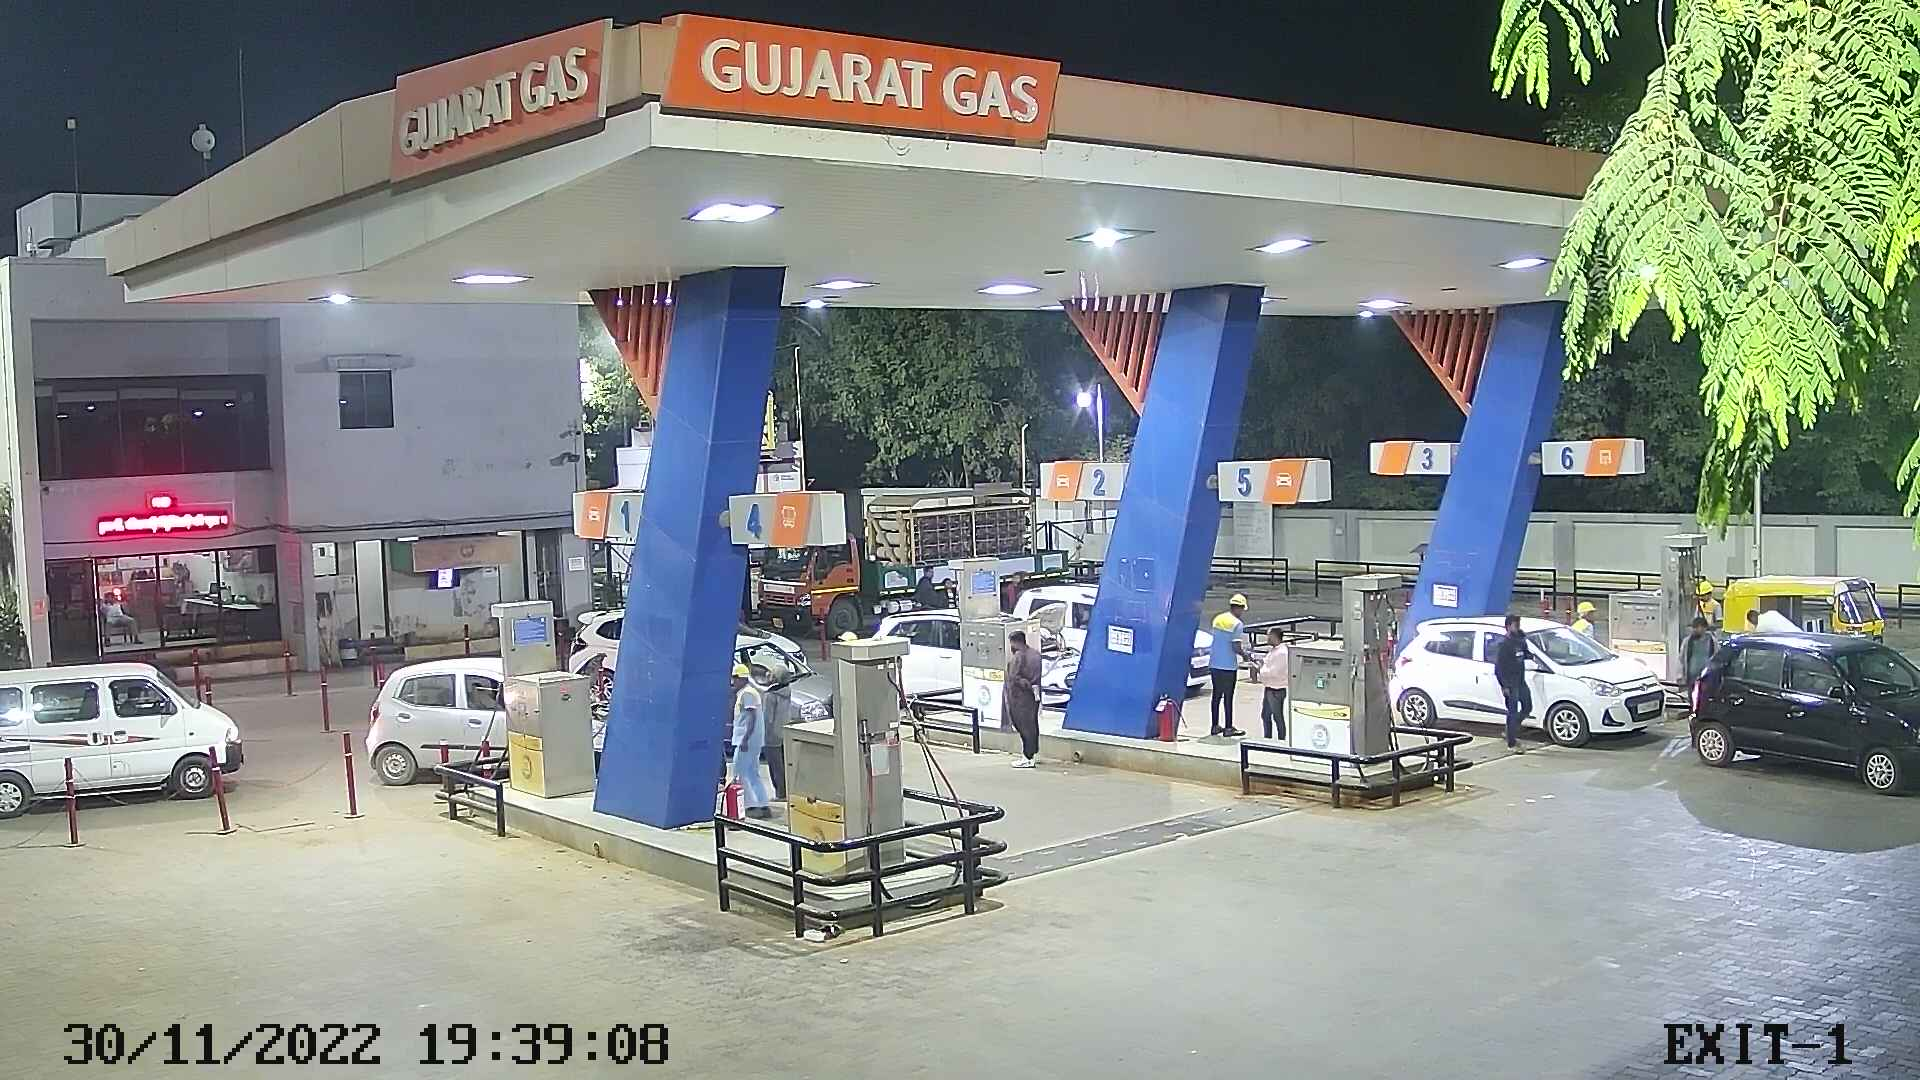Auto: (1706, 566, 1905, 665)
Car: (0, 647, 258, 831), (1379, 607, 1676, 758), (1676, 622, 1917, 808), (351, 646, 524, 794), (716, 624, 844, 782), (858, 593, 969, 727), (1006, 578, 1106, 680), (550, 593, 632, 700)
HMV: (746, 476, 1077, 653)
Others: (719, 653, 775, 825), (1204, 587, 1258, 740), (1695, 575, 1734, 640), (1569, 591, 1604, 651)
